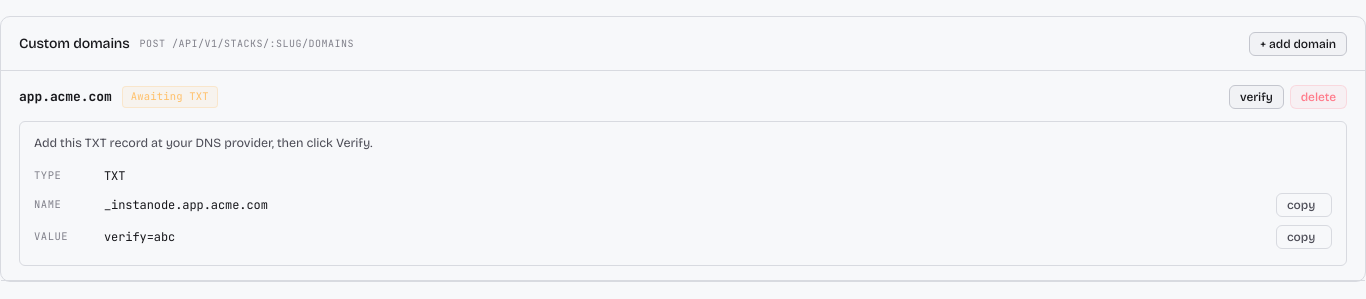
Test case: CustomDomainPanel — verify / delete › verifies a domain and updates its status
Expected: the text "app.acme.com" is shown, [19,87,112,107]
Click the button "verify".
click(1256, 97)  # box [1229,85,1284,109]
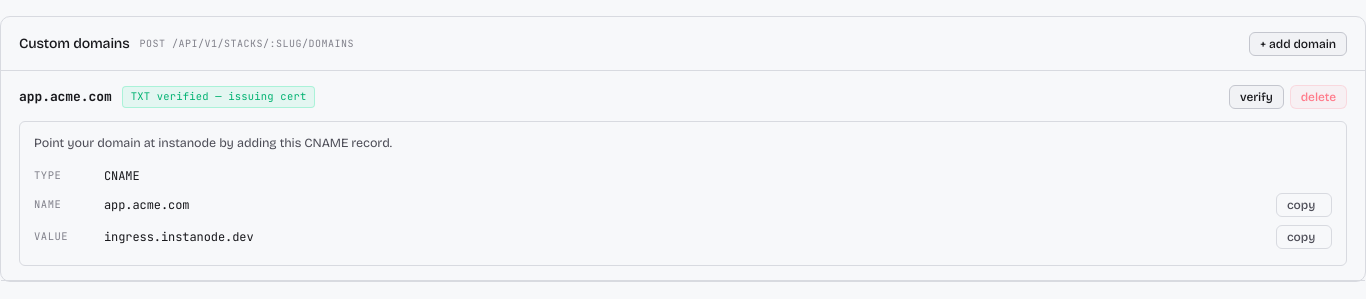
Now the text "TXT verified — issuing cert" is shown, box [122,86,315,108]
